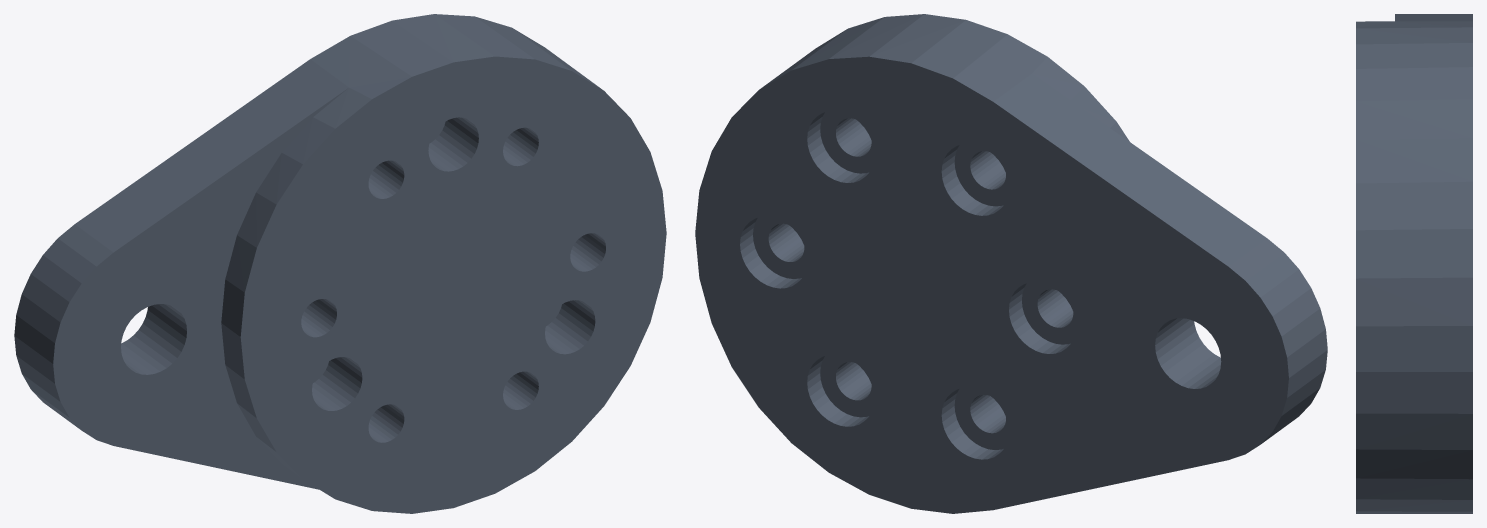
Rendered from knee_crank_R.dae.
3 views of the same model, side by side, from view 1: azimuth 30°, elevation 25°; view 2: azimuth 150°, elevation 25°; view 3: azimuth 270°, elevation 25° (orthographic).
Visible parts, largest first — view 1: knee_crank_R-printed; view 2: knee_crank_R-printed; view 3: knee_crank_R-printed.
Part boxes in pixels (x1,y1,x2,y2): knee_crank_R-printed: (14, 14, 666, 513); knee_crank_R-printed: (695, 14, 1327, 513); knee_crank_R-printed: (1356, 14, 1472, 513).
Size of the model in its own units: 0.053 by 0.009 by 0.038.
